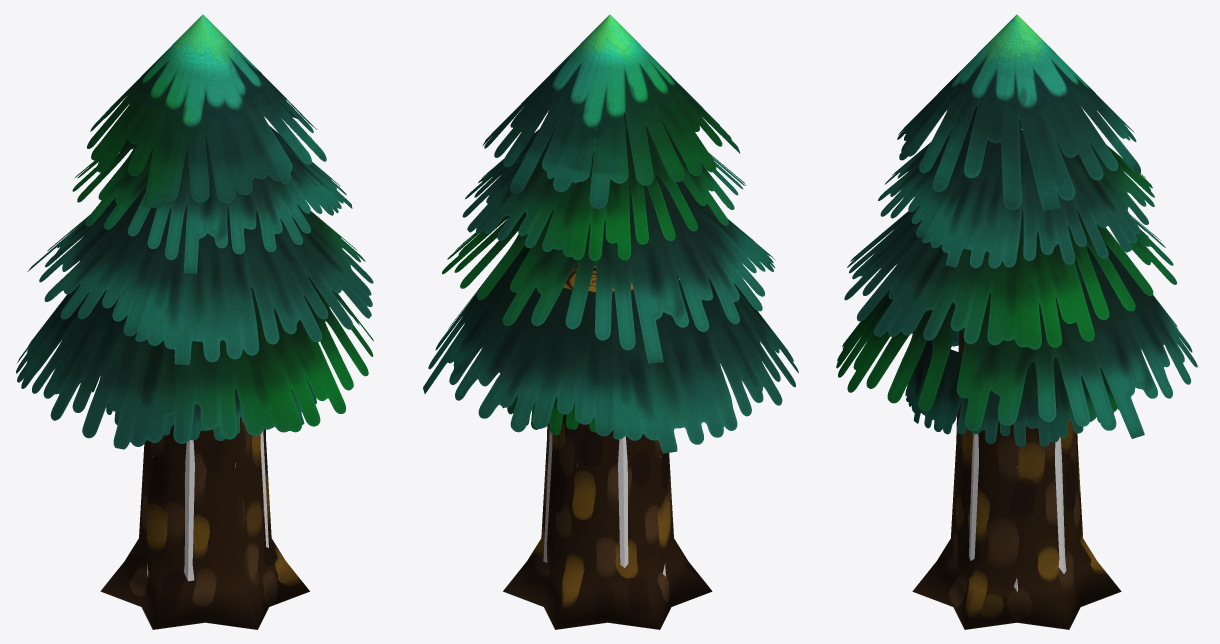
The model's file is pinheiro_adulto.glb.
3 renders of one model, left to right at view 1: azimuth 30°, elevation 25°; view 2: azimuth 150°, elevation 25°; view 3: azimuth 270°, elevation 25°, orthographic.
Parts seen in each view (by area): view 1: Full Grow.003_7, Colisao.004; view 2: Full Grow.003_7, Colisao.004; view 3: Full Grow.003_7, Colisao.004.
Boxes of the visible parts, bbox=[...] form: Full Grow.003_7: bbox=[16, 14, 373, 629]; Colisao.004: bbox=[147, 430, 268, 581]; Full Grow.003_7: bbox=[423, 14, 798, 629]; Colisao.004: bbox=[543, 423, 665, 576]; Full Grow.003_7: bbox=[836, 14, 1197, 629]; Colisao.004: bbox=[956, 434, 1077, 591].
Bounding box in the file's own units: 2.19 × 3.69 × 2.19.
1 material, 1 textured.
